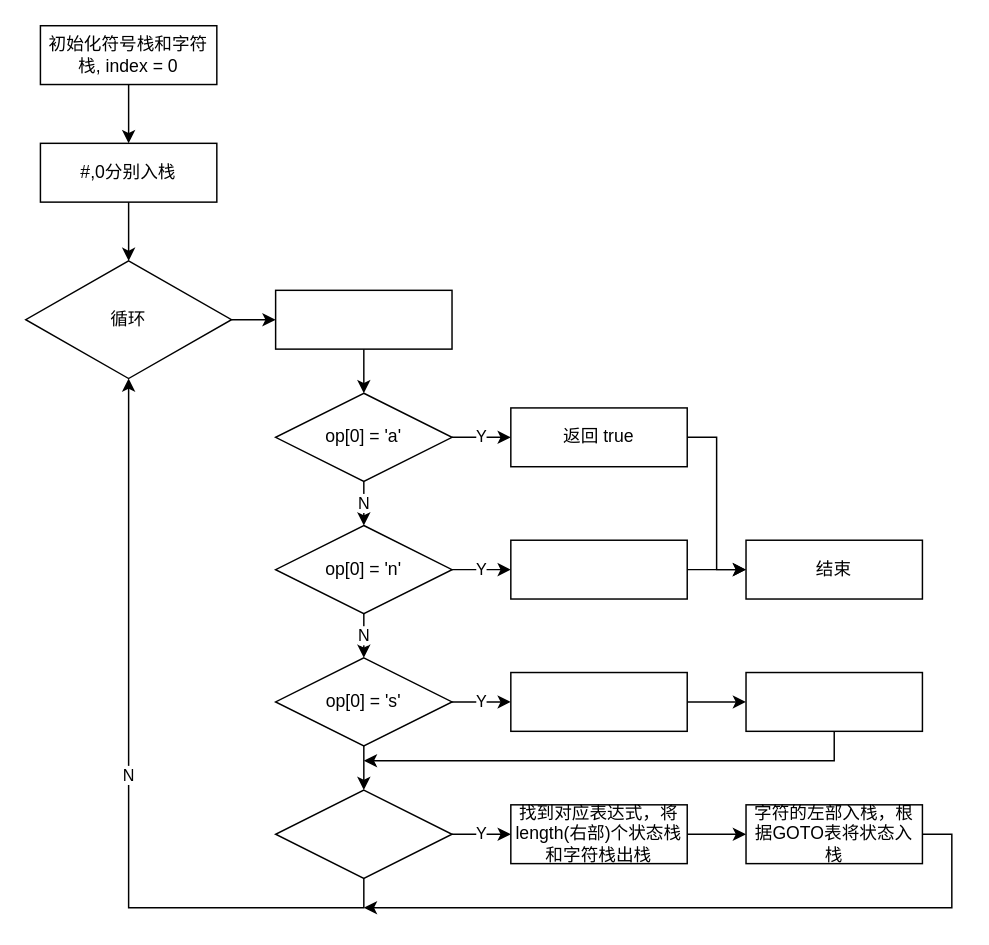
Image size: 989x945. Some labels were removed from this diagram. The centre of each missing label's shape, as x and y in pixels:
index ++: the point at 833,701
op[0] = 'r': the point at 363,833
translationTable() 获取当前LR表的值: the point at 363,319
当前值入符号栈，查表后将状态入栈: the point at 598,701
返回 false: the point at 598,569
